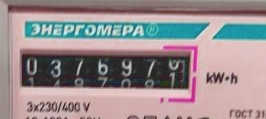0: (24, 55, 37, 75)
1: (166, 70, 177, 88)
3: (48, 57, 61, 77)
6: (95, 54, 108, 75)
7: (71, 55, 84, 76), (143, 56, 155, 78)
9: (119, 56, 131, 77)
screen: (11, 40, 201, 104)
